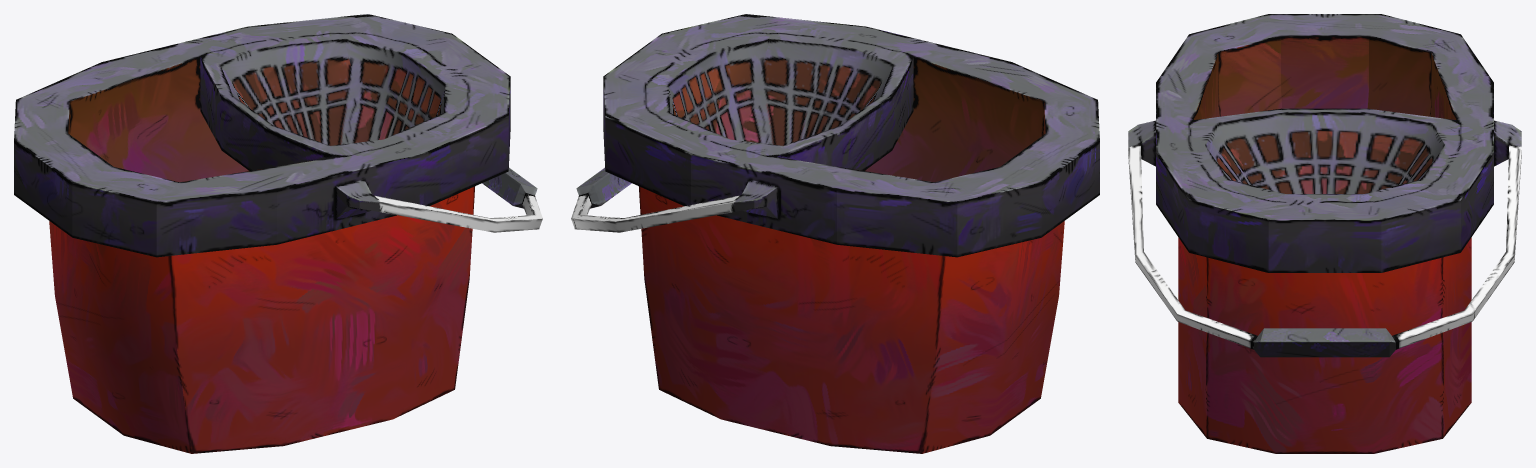
File: Mop_bucket.fbx
The picture shows the model from 3 angles, left to right: view 1: azimuth 30°, elevation 25°; view 2: azimuth 150°, elevation 25°; view 3: azimuth 270°, elevation 25°; orthographic projection. The views are drawn at different scales.
Parts seen in each view (by area): view 1: Mop_Bucket; view 2: Mop_Bucket; view 3: Mop_Bucket.
Part boxes in pixels (box(x1,y1,x2,y2)): Mop_Bucket: box(14, 14, 542, 453); Mop_Bucket: box(571, 14, 1099, 453); Mop_Bucket: box(1128, 14, 1521, 453).
Size of the model in its own units: 1.75 by 0.9755 by 1.34.
1 material, 1 textured.
